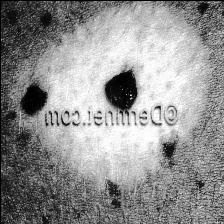Potentially Malignant Skin Tumors: (21, 0, 207, 184), (104, 72, 136, 108), (23, 84, 44, 111)
